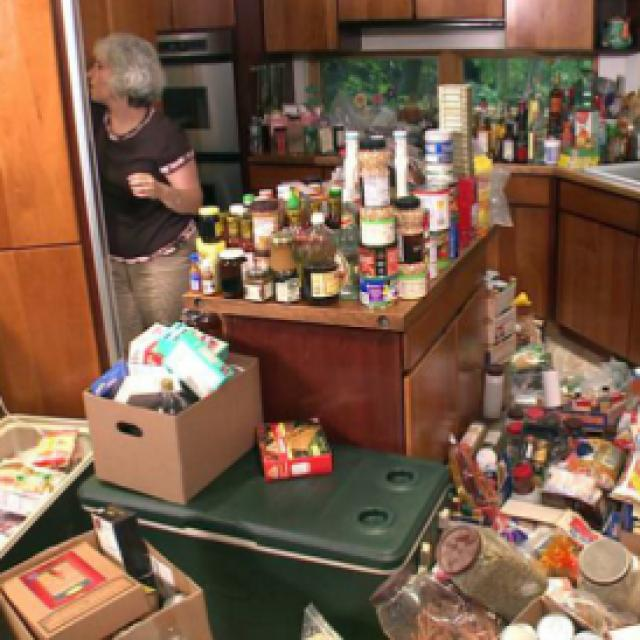mess: (448, 383, 640, 640), (84, 341, 359, 514), (175, 151, 500, 286)
